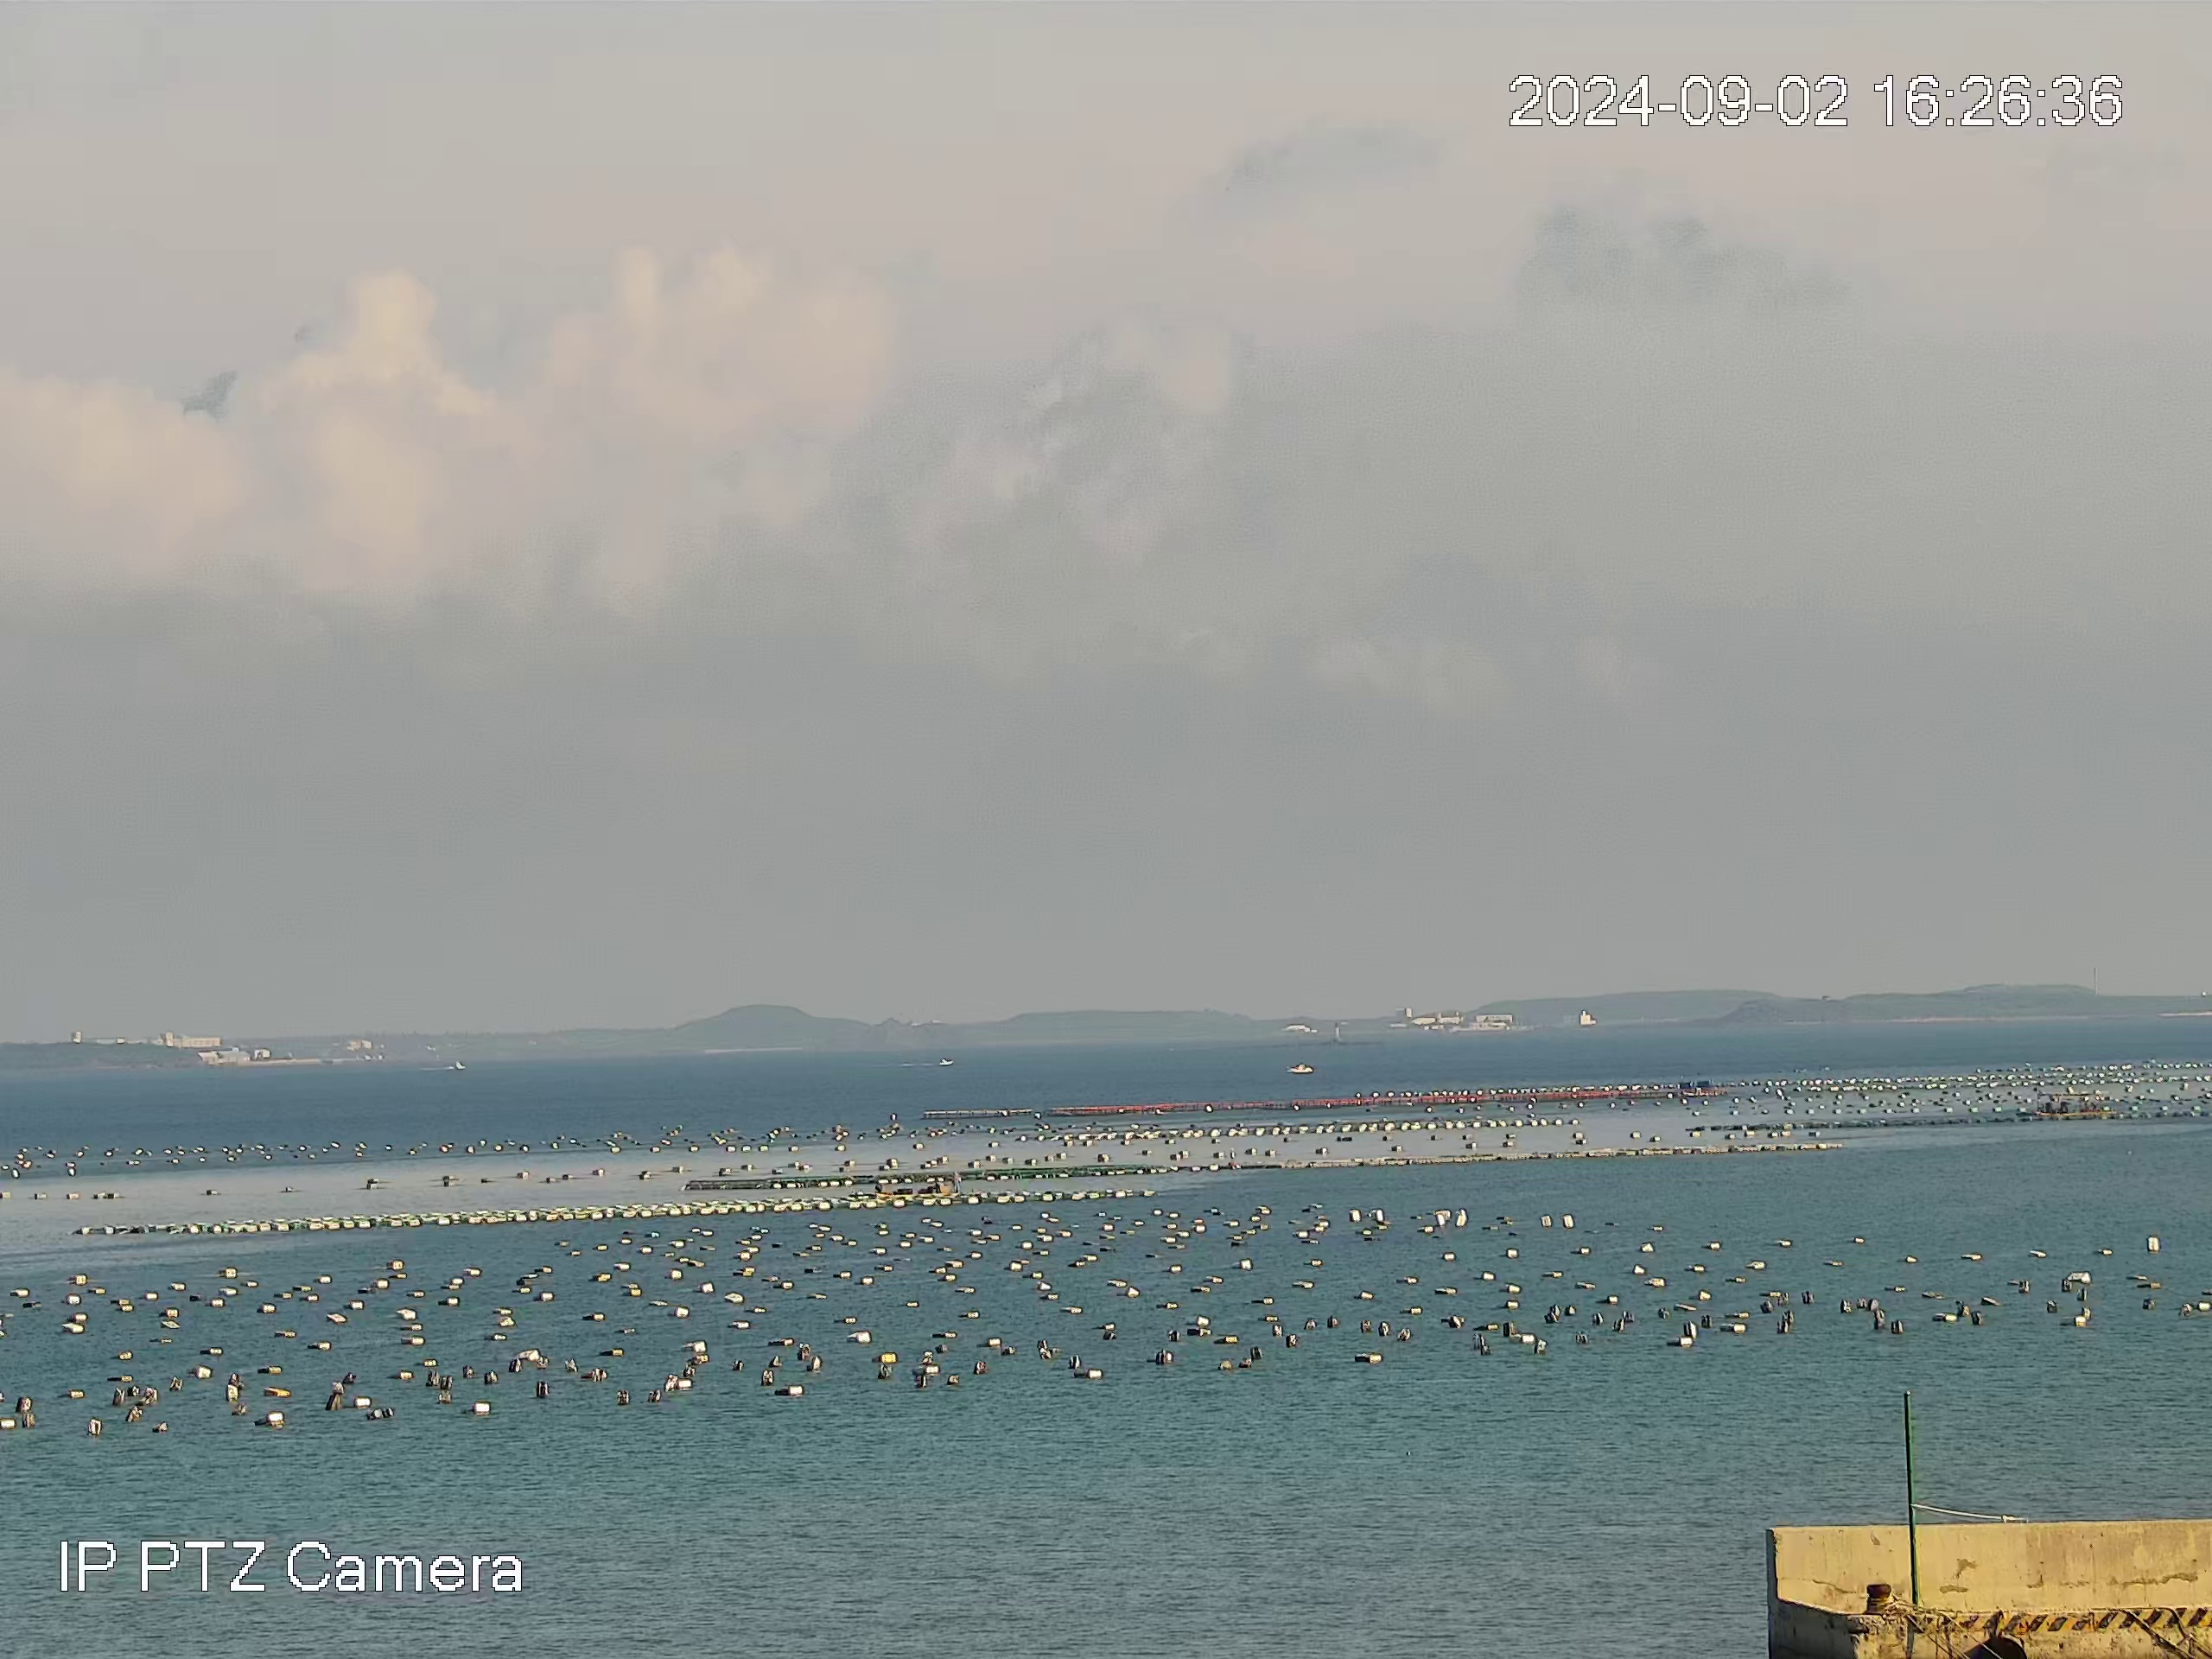boat: (2033, 1091, 2114, 1122), (873, 1176, 961, 1199), (1282, 1061, 1315, 1075), (939, 1056, 954, 1066)
